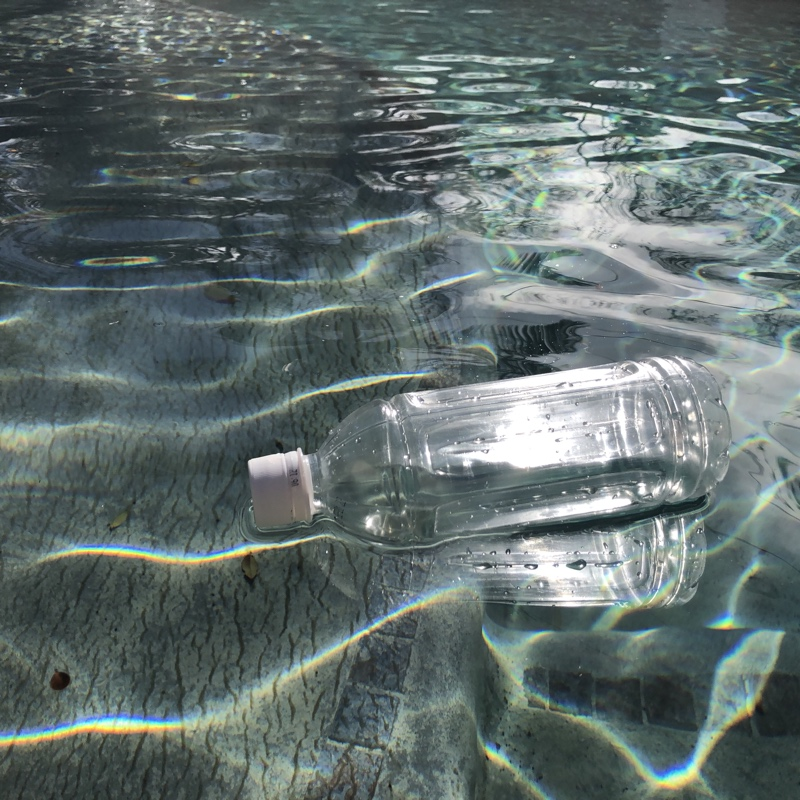Plastic Bottle: (241, 353, 738, 542)
